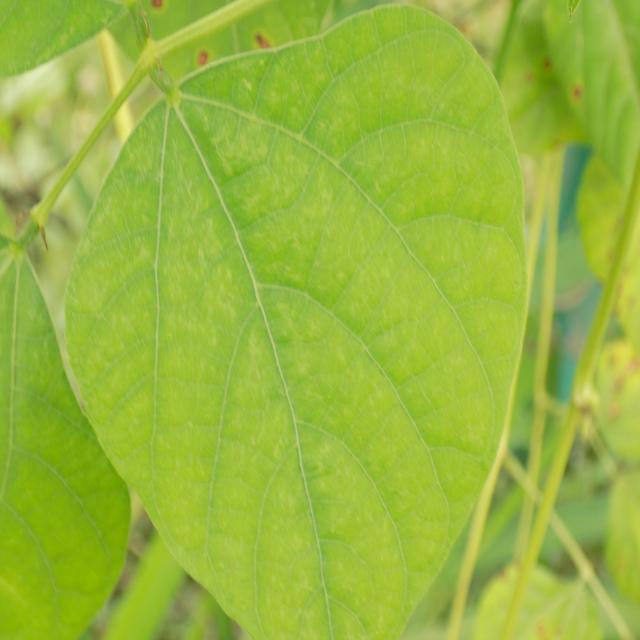Dolicos bean_healthy: (73, 0, 530, 640), (0, 247, 134, 640)
